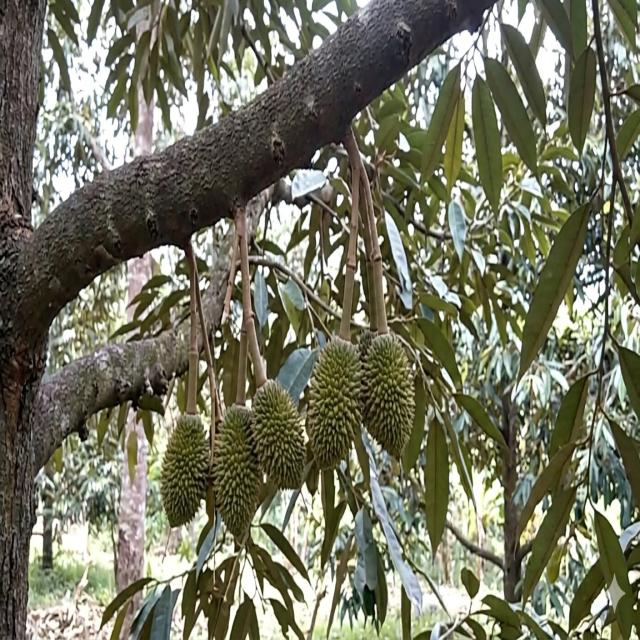immature: (304, 337, 364, 468), (357, 331, 415, 452), (212, 404, 262, 535), (250, 378, 306, 491), (160, 413, 210, 527), (221, 402, 255, 452), (255, 380, 289, 428), (325, 333, 360, 371), (355, 326, 377, 360)
